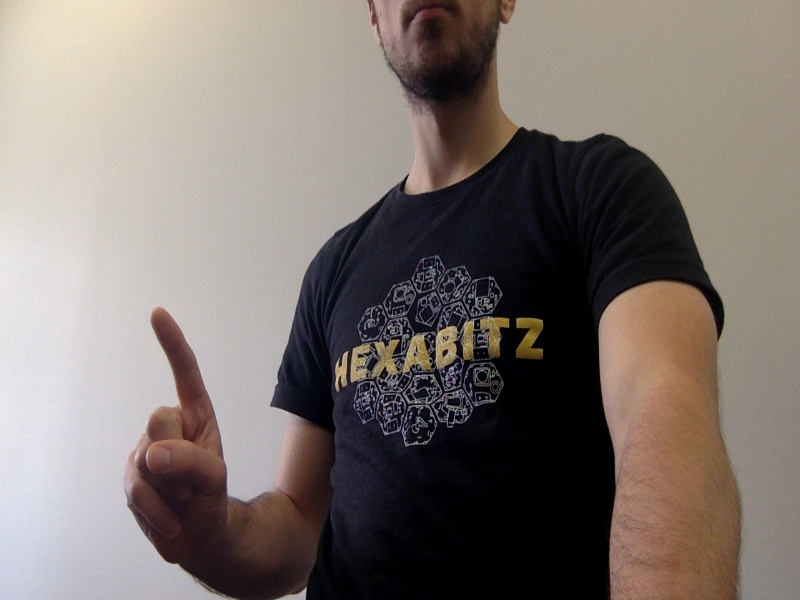1-hand: (125, 306, 227, 561)
